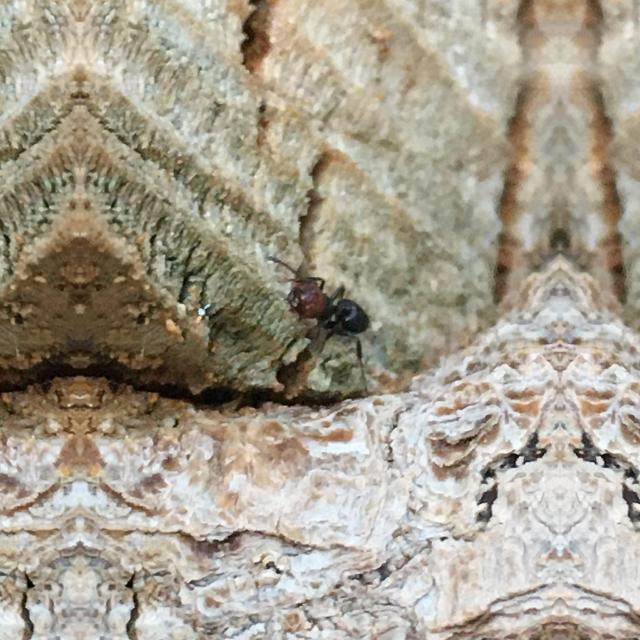Crematogaster: (272, 264, 374, 348)
